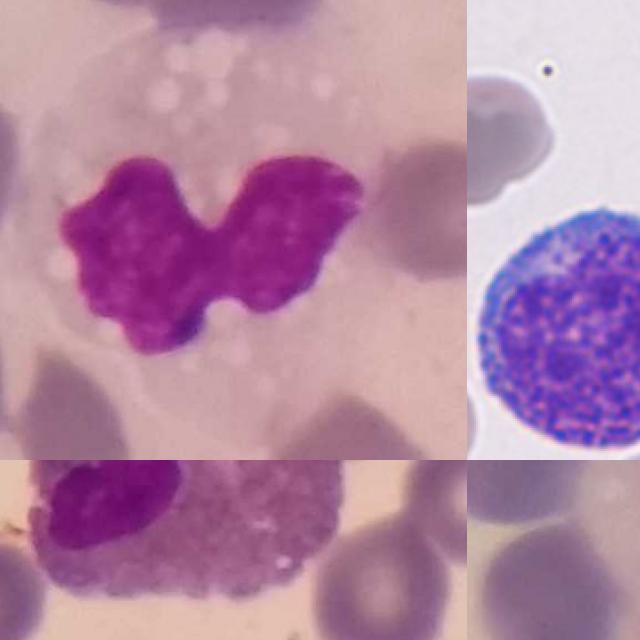Eosinophil: (30, 460, 344, 603)
Lymphocyte: (467, 191, 640, 460)
Monocyte: (23, 26, 383, 400), (586, 460, 640, 640)
RBC: (467, 67, 557, 211)
